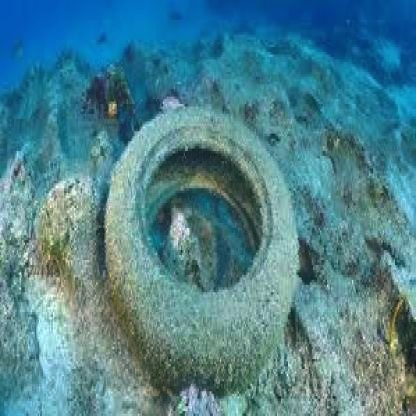tire: (96, 94, 301, 391)
